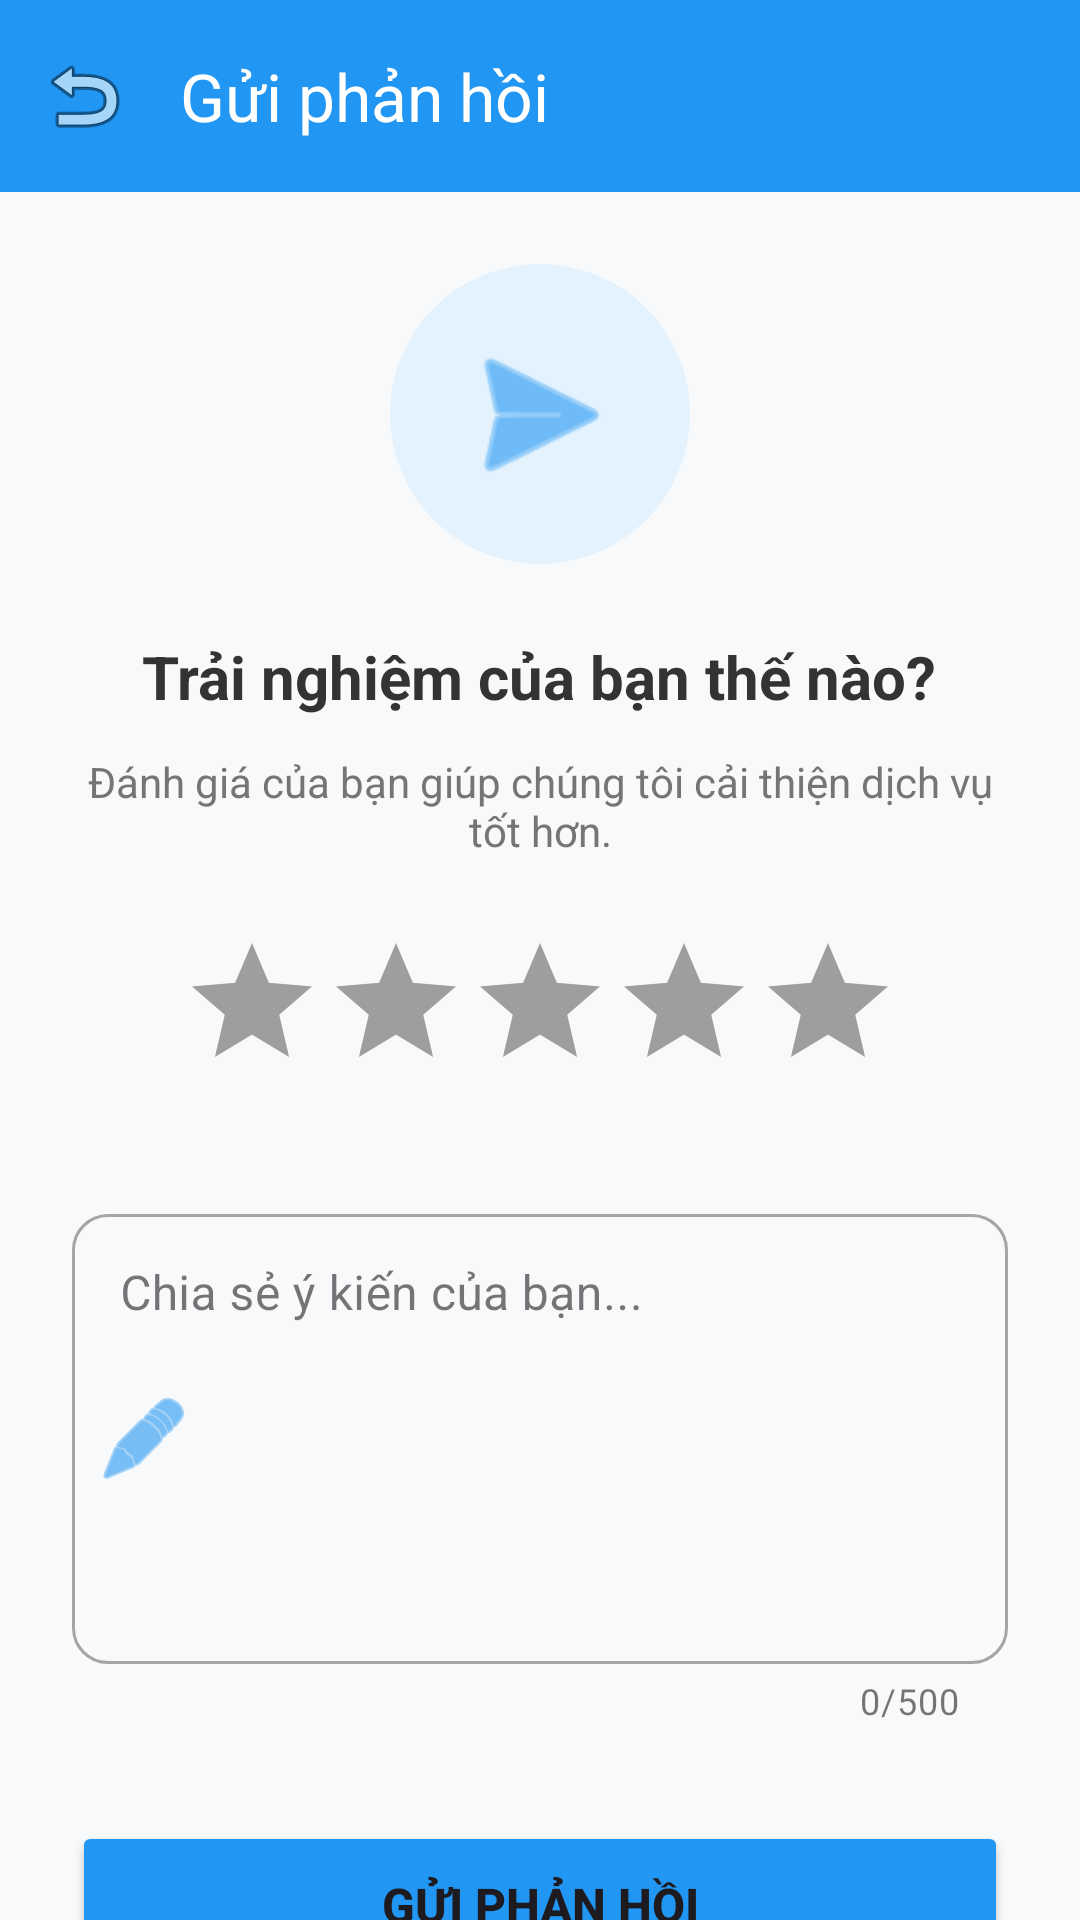

Icon bounding boxes for this 1080px x 1920px phone screenshot, format (x1, y1, x2, y2):
send: (483, 357, 601, 473)
